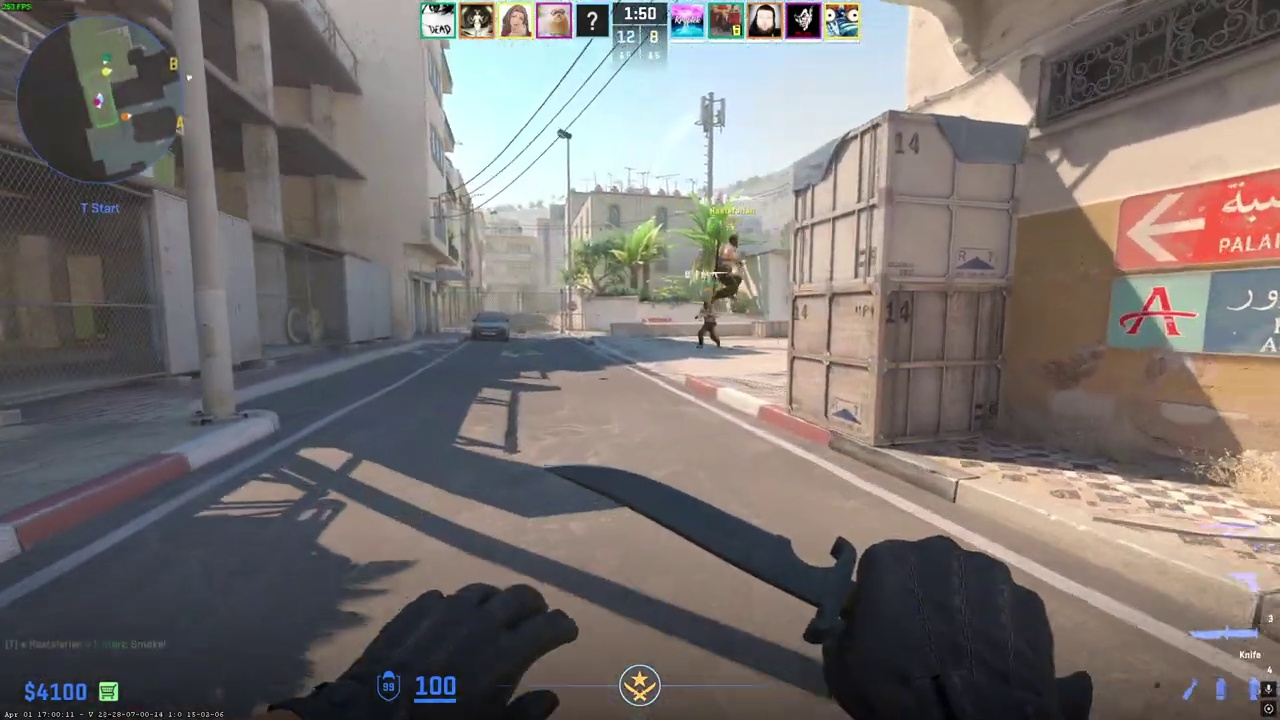Terrorist: (712, 234, 744, 302), (695, 301, 721, 349)
